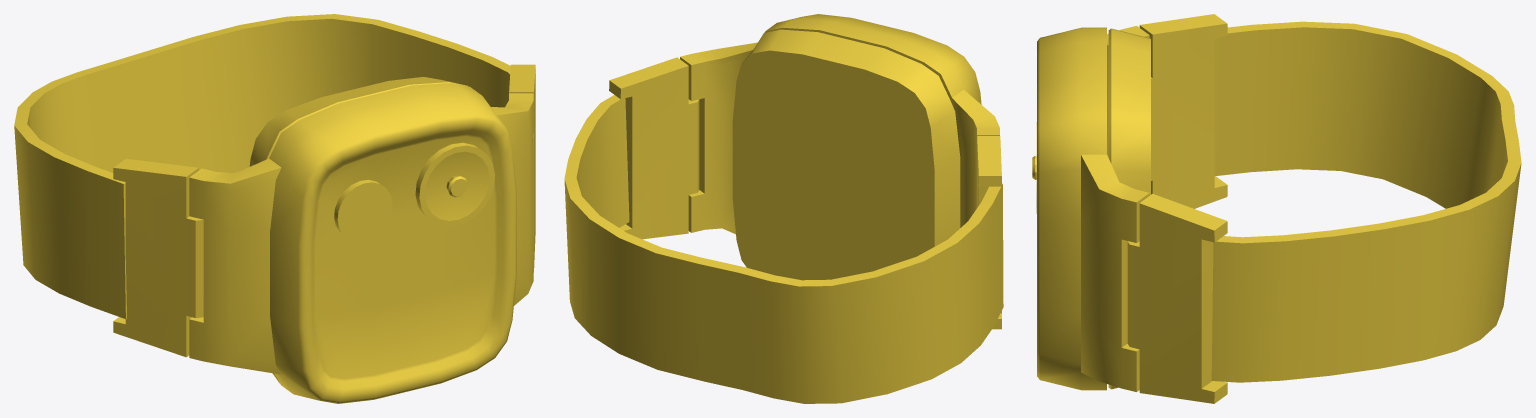
Rendered from Wrist_Alarm.FBX.
3 renders of one model, left to right at view 1: azimuth 30°, elevation 25°; view 2: azimuth 150°, elevation 25°; view 3: azimuth 270°, elevation 25°, orthographic. The views are drawn at different scales.
Visible parts, largest first — view 1: Wrist_Alarm; view 2: Wrist_Alarm; view 3: Wrist_Alarm.
Boxes of the visible parts, box(x1,y1,x2,y2) form: Wrist_Alarm: box(14, 14, 535, 403); Wrist_Alarm: box(564, 14, 1003, 403); Wrist_Alarm: box(1032, 14, 1521, 403).
Bounding box in the file's own units: 0.079 × 0.0485 × 0.0721.
